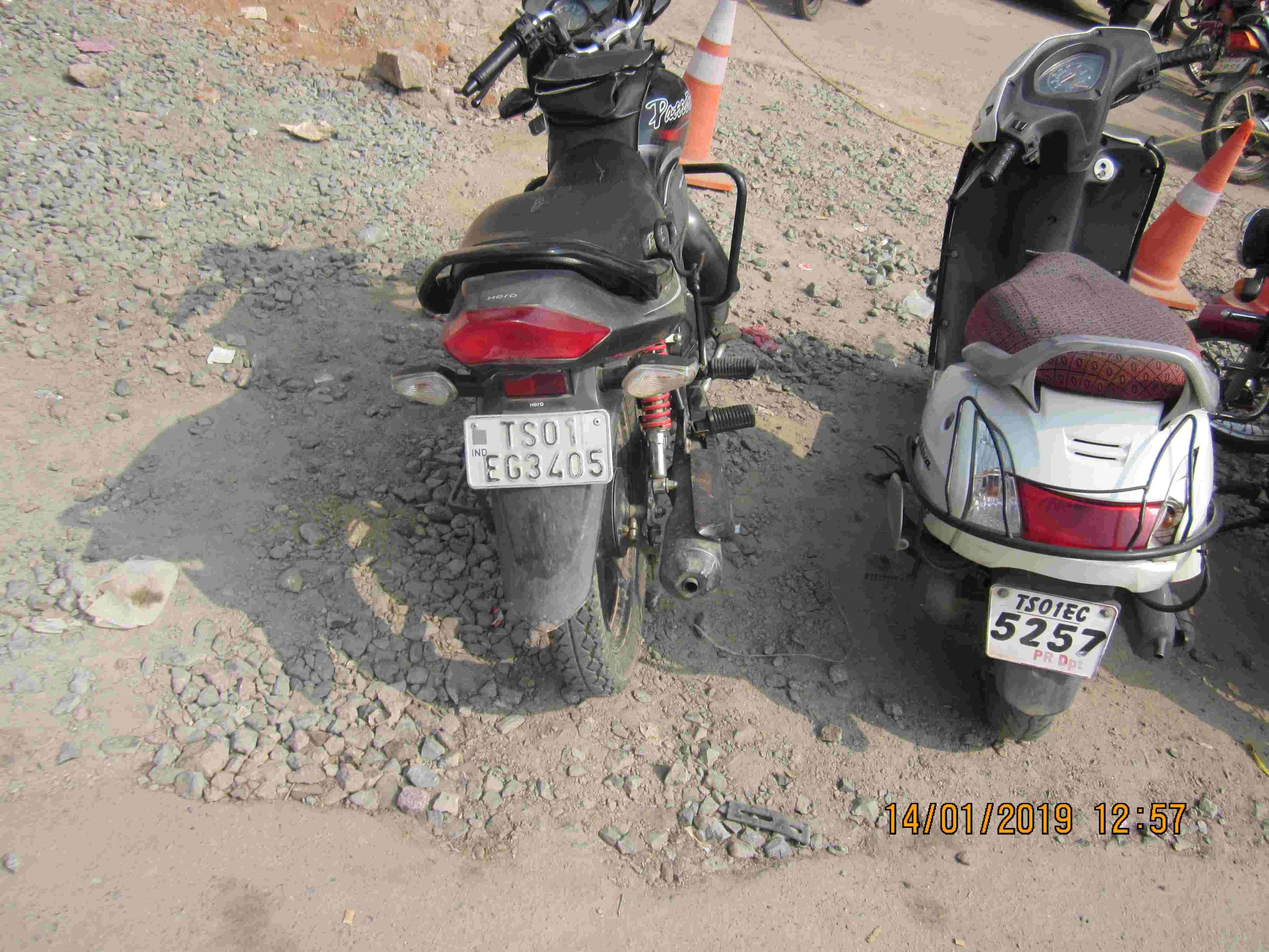plate: (981, 575, 1122, 686), (466, 409, 630, 496)
